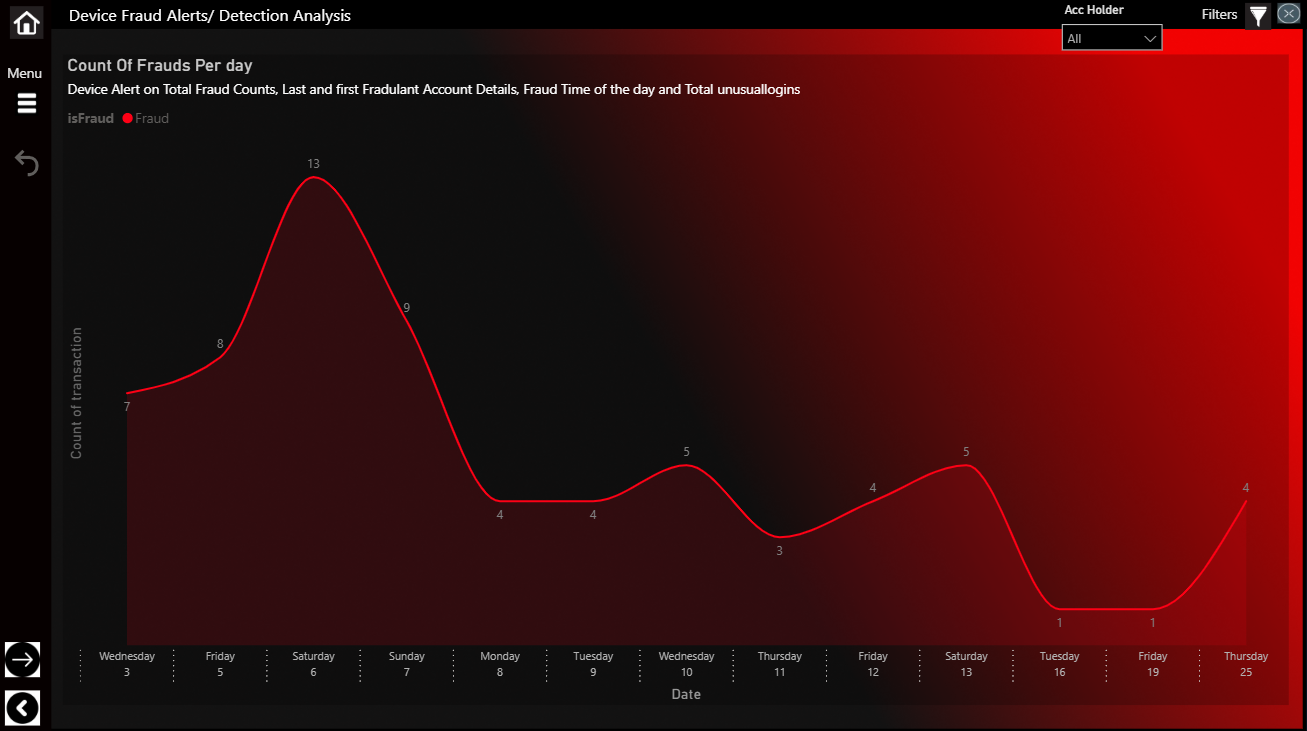

Layout of this report page (visuals, bound fields, positions):
{"tool":"powerbi","page":{"name":"Device","canvas":[1280,720],"ordinal":3},"visuals":[{"type":"shape","box":[0,0,1279.5,719.9],"z":0},{"type":"image","box":[0,1.1,1279.2,718.9],"z":1000},{"type":"shape","box":[43.1,0,1235.9,30.1],"z":3000},{"type":"shape","box":[61.6,55.2,1199.6,637],"z":4000},{"type":"shape","box":[0,0,50.2,720.6],"z":9000},{"type":"actionButton","box":[14.2,90.4,23.1,24.8],"z":10000},{"type":"actionButton","box":[8.9,141.9,35.5,39],"z":11000},{"type":"image","box":[1245.3,0,32.1,30.2],"z":19000},{"type":"slicer","fields":{"Values":["Fraud Dataset_NEW.nameOrig"]},"box":[1028.3,0,118.9,71.7],"z":21000},{"type":"image","box":[1200,0,62.3,35.8],"z":22000},{"type":"actionButton","box":[0,60.3,47.9,23.1],"z":23000},{"type":"actionButton","box":[1166,0,52.8,30.2],"z":24000},{"type":"textbox","box":[62.3,0,294.3,37.7],"z":25000},{"type":"areaChart","title":"Count Of Frauds Per day","fields":{"Category":["Fraud Dataset_NEW.Date of transaction.Variation.Date Hierarchy.Day","Fraud Dataset_NEW.DayOfWeek(new)"],"Y":["Count(Fraud Dataset_NEW.nameOrig)"],"Series":["Fraud Dataset_NEW.isFraud"]},"box":[61.6,55.2,1199.6,639.1],"z":26000},{"type":"image","box":[5.3,0,42.6,47.9],"z":29000},{"type":"image","box":[0,672,44.3,44.3],"z":30000},{"type":"image","box":[0,624.2,44.3,47.9],"z":31000}]}

Visuals, with their boxes on the page's 1280x720 design canvas (x1, y1, x2, y2). These are canvas units, not pixel positions in the 1307x731 screenshot, which may show the page scaled, cropped or inside an application window:
shape: (x1=0, y1=0, x2=1280, y2=720)
image: (x1=0, y1=1, x2=1279, y2=720)
shape: (x1=43, y1=0, x2=1279, y2=30)
shape: (x1=62, y1=55, x2=1261, y2=692)
shape: (x1=0, y1=0, x2=50, y2=721)
actionButton: (x1=14, y1=90, x2=37, y2=115)
actionButton: (x1=9, y1=142, x2=44, y2=181)
image: (x1=1245, y1=0, x2=1277, y2=30)
slicer - Fraud Dataset_NEW.nameOrig: (x1=1028, y1=0, x2=1147, y2=72)
image: (x1=1200, y1=0, x2=1262, y2=36)
actionButton: (x1=0, y1=60, x2=48, y2=83)
actionButton: (x1=1166, y1=0, x2=1219, y2=30)
textbox: (x1=62, y1=0, x2=357, y2=38)
"Count Of Frauds Per day" areaChart: (x1=62, y1=55, x2=1261, y2=694)
image: (x1=5, y1=0, x2=48, y2=48)
image: (x1=0, y1=672, x2=44, y2=716)
image: (x1=0, y1=624, x2=44, y2=672)
